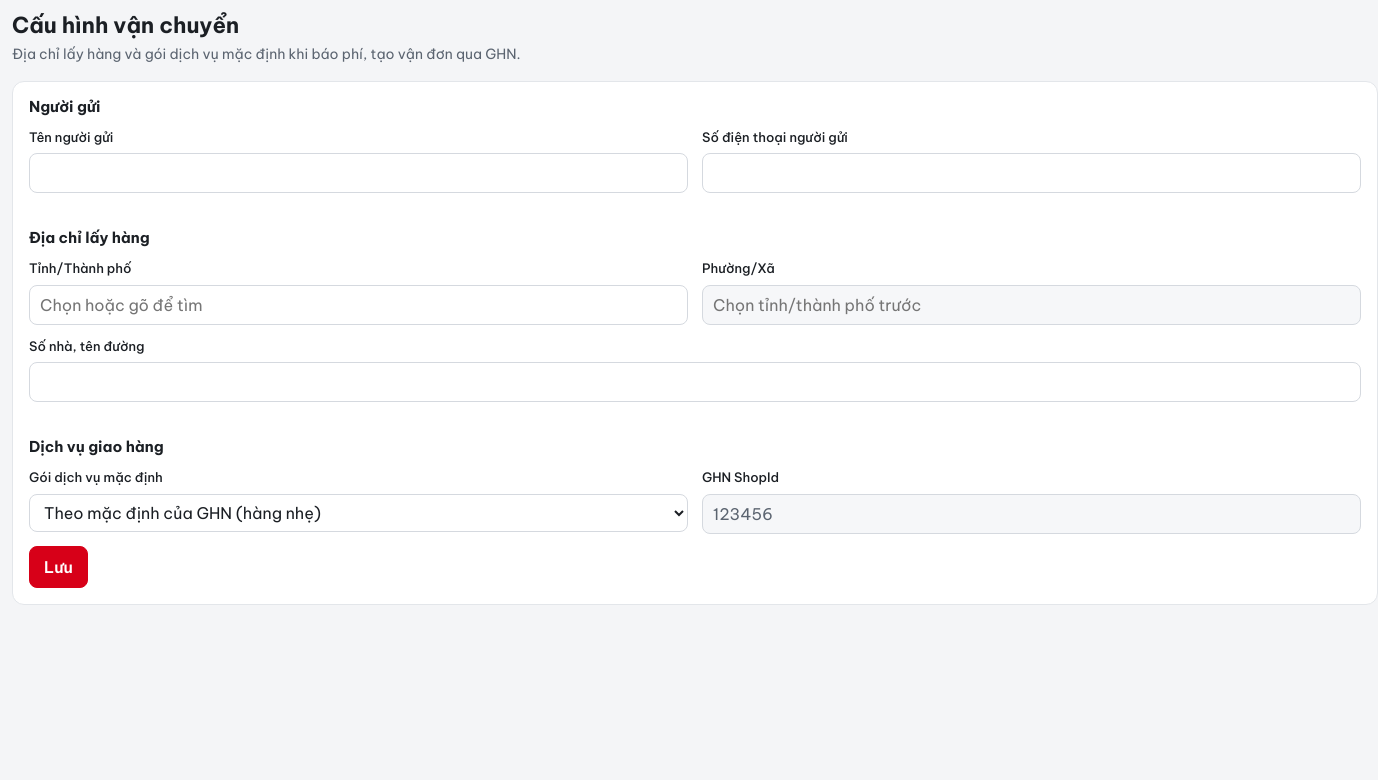
Test: ShippingSettingsPage: kiểm phía client › form trống thì lỗi hiện dưới đúng từng ô và không gửi PUT
The image size is (1378, 780).
Click the submit button. click: click(58, 566)
box: [29,546,88,588]
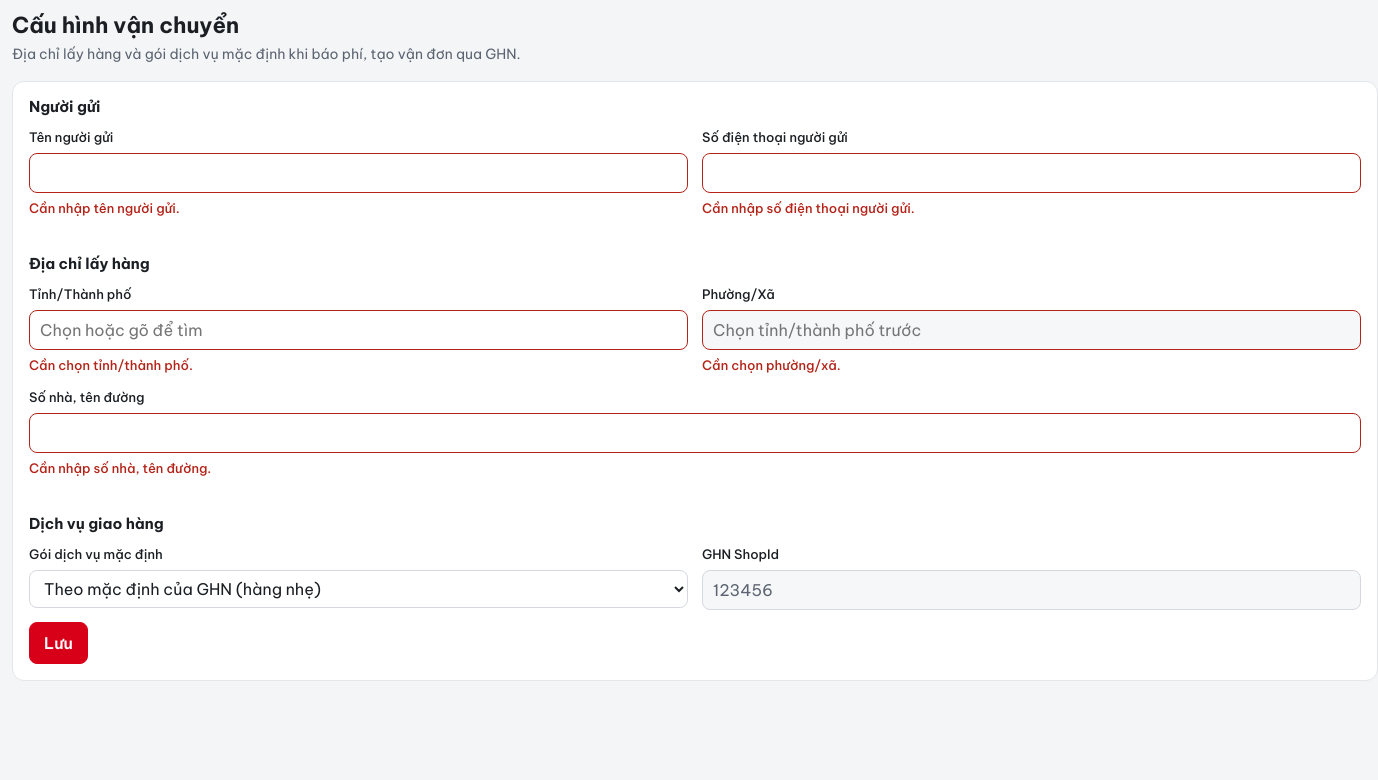
expect the text "Cần nhập tên người gửi." is shown: met, box [29,200,180,216]
expect the text "Cần nhập số điện thoại người gửi." is shown: met, box [702,200,915,216]
expect the text "Cần chọn tỉnh/thành phố." is shown: met, box [29,357,193,373]
